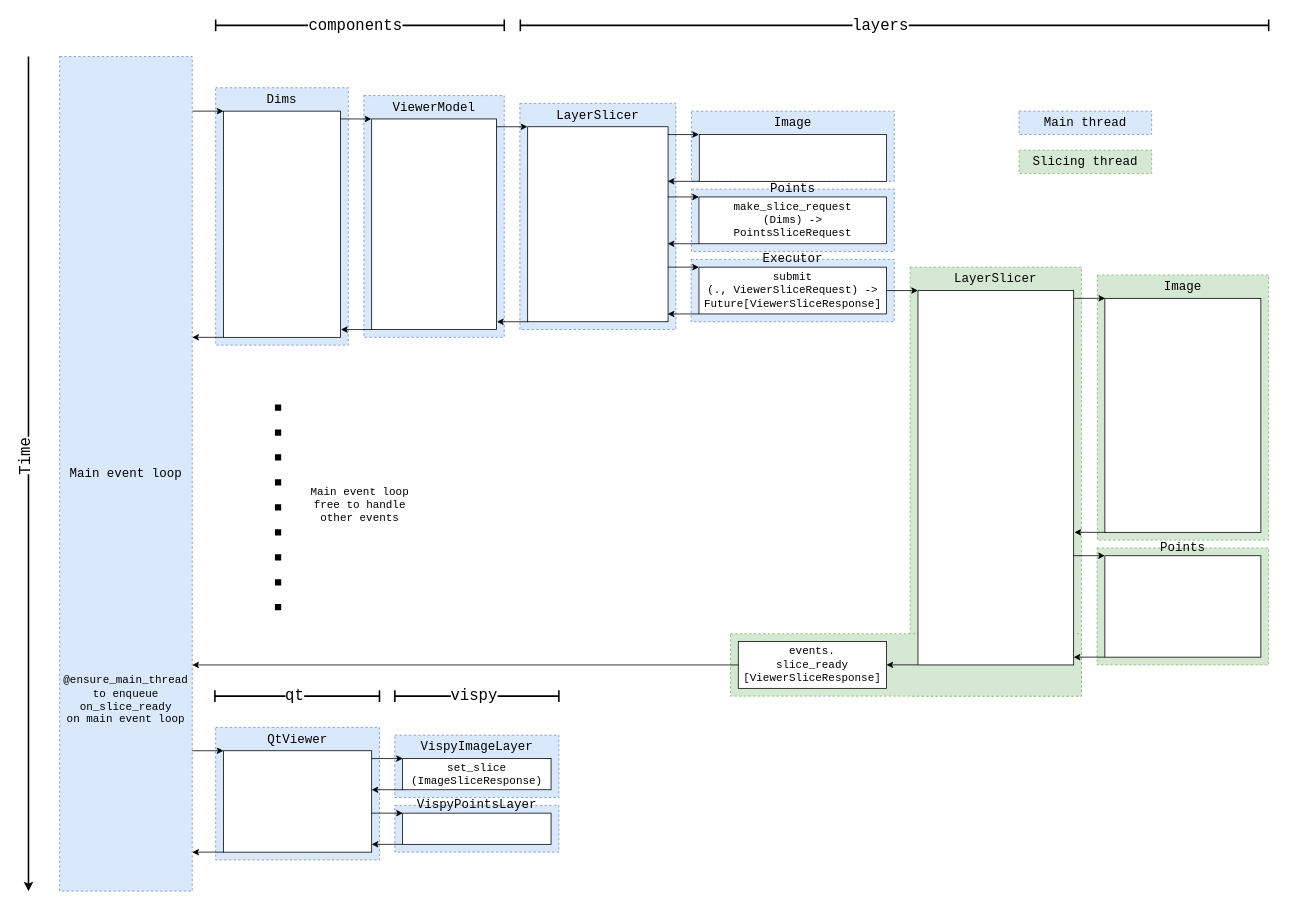
This 1294x911 diagram has some shape labels left out. Here are the shapes that lost their labels. From the top down, the centre of each, then its label:
At (792,157): "make_slice_request (Dims) -> ImageSliceRequest".
At (281,223): "events. current_step [tuple[int, ...]]".
At (433,224): "slice_layers_async".
At (597,224): "slice_layers_async (Iterable[Layer], Dims)".
At (1182,415): "get_slice (ImageSliceRequest) -> ImageSliceResponse".
At (995,477): "slice_layers (ViewerSliceRequest) -> ViewerSliceResponse".
At (1182,606): "get_slice (PointsSliceRequest) -> PointsSliceResponse".
At (297,801): "on_slice_ready (ViewerSliceResponse)".
At (476,828): "set_slice (PointsSliceResponse)".
